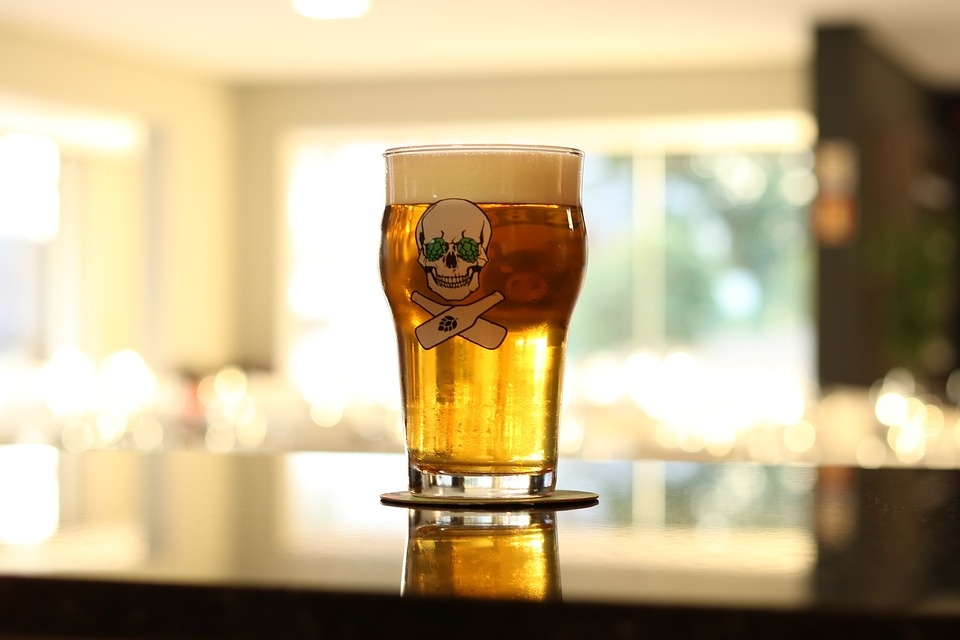glassBeer: (374, 140, 579, 491)
